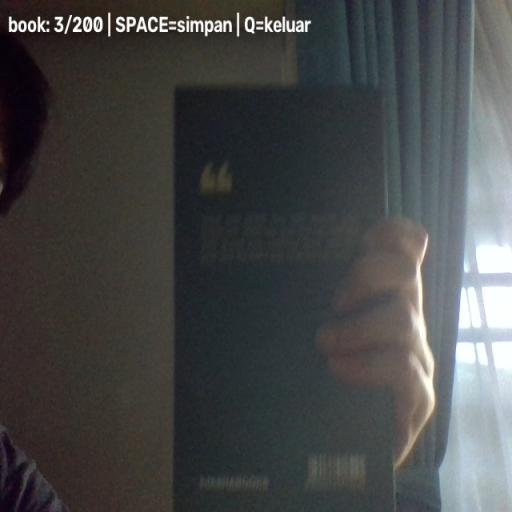Book: (171, 83, 396, 512)
